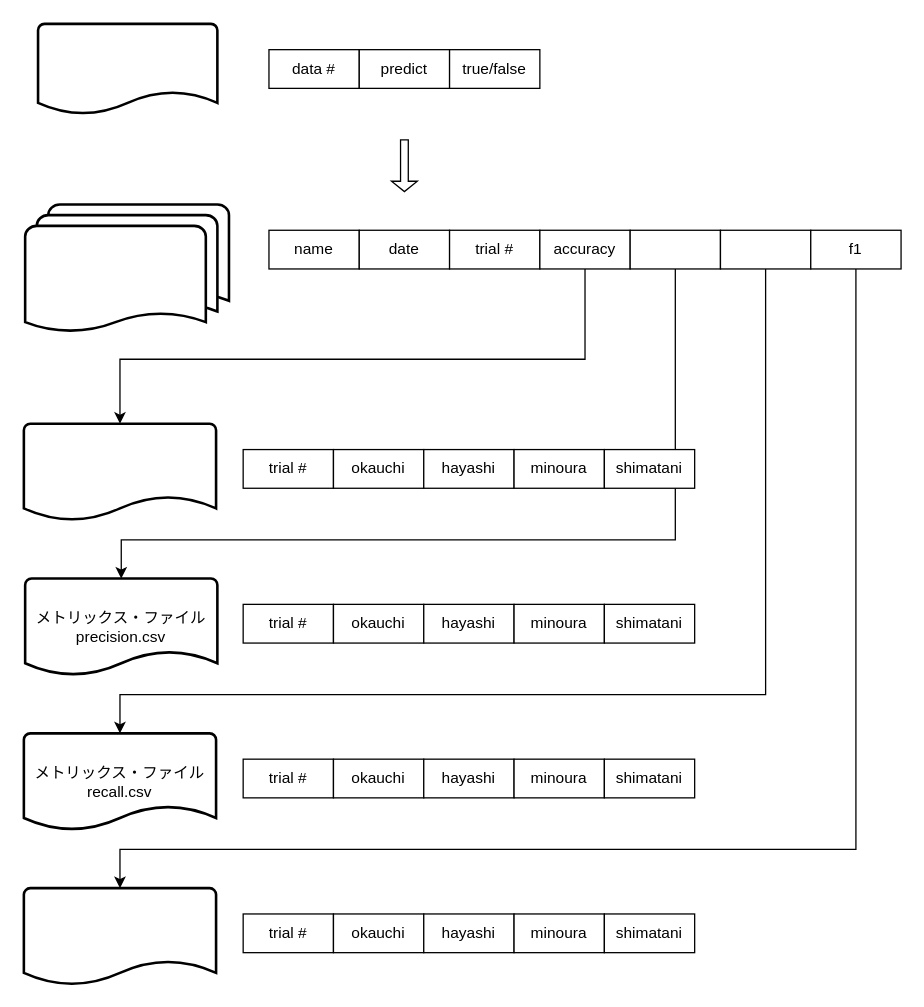
Some shapes in this 924 by 1007 pixel diagram are drawn without their labels. Each missing label, with the centre of its shape:
"precision" goes at [674,249].
"recall" goes at [765,249].
"メトリックス・ファイル accuracy.csv" goes at [119,471].
"メトリックス・ファイル f1.csv" goes at [119,936].
"予測・正解結合ファイル combined.csv" goes at [127,68].
"個人別成績ファイルscore_shimatani.csv" goes at [126,268].
